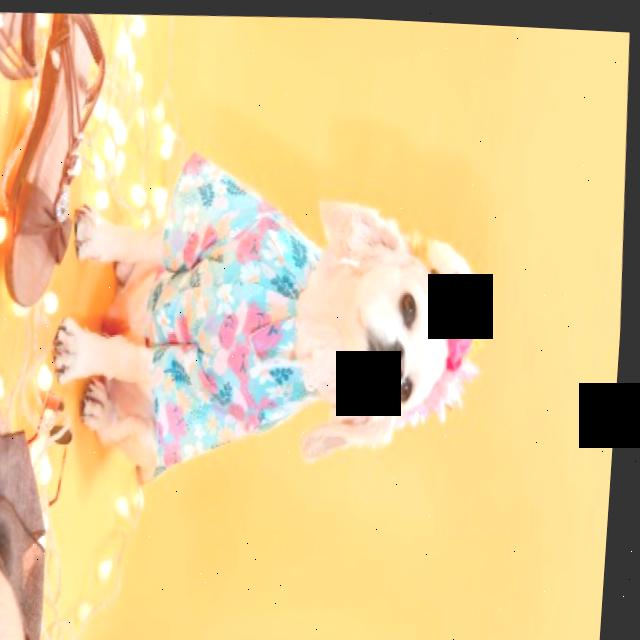cloth: (152, 151, 324, 471)
